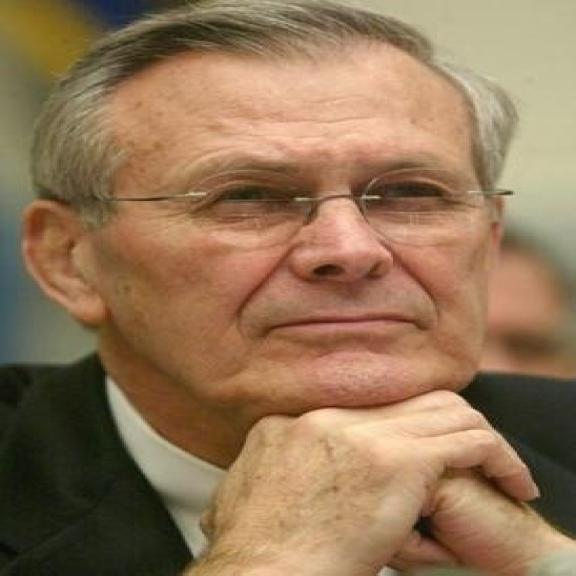face: (12, 15, 517, 416)
